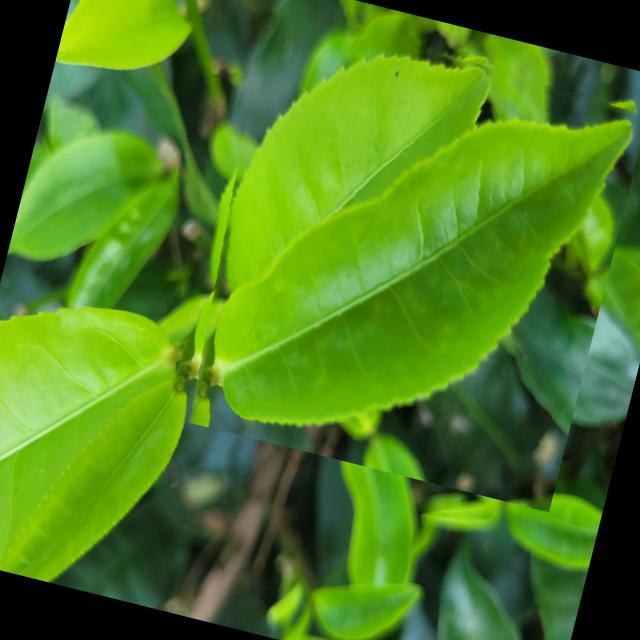Catagory A(1-2 days): (164, 0, 640, 511)
